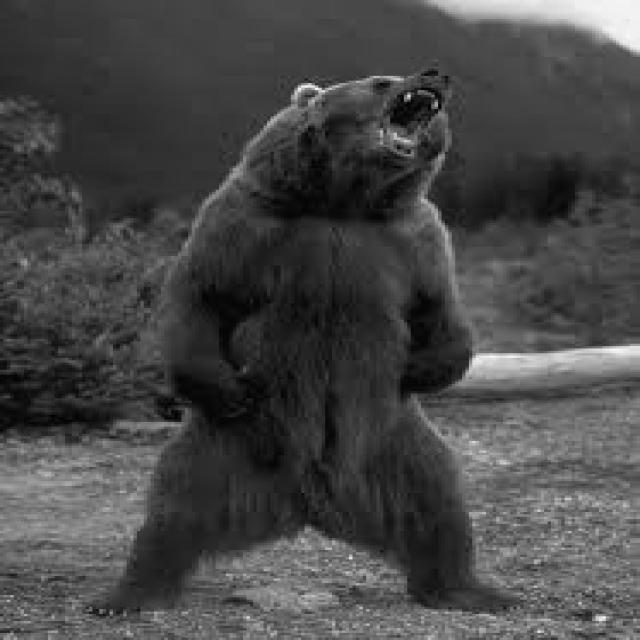Bear: (161, 73, 492, 606)
